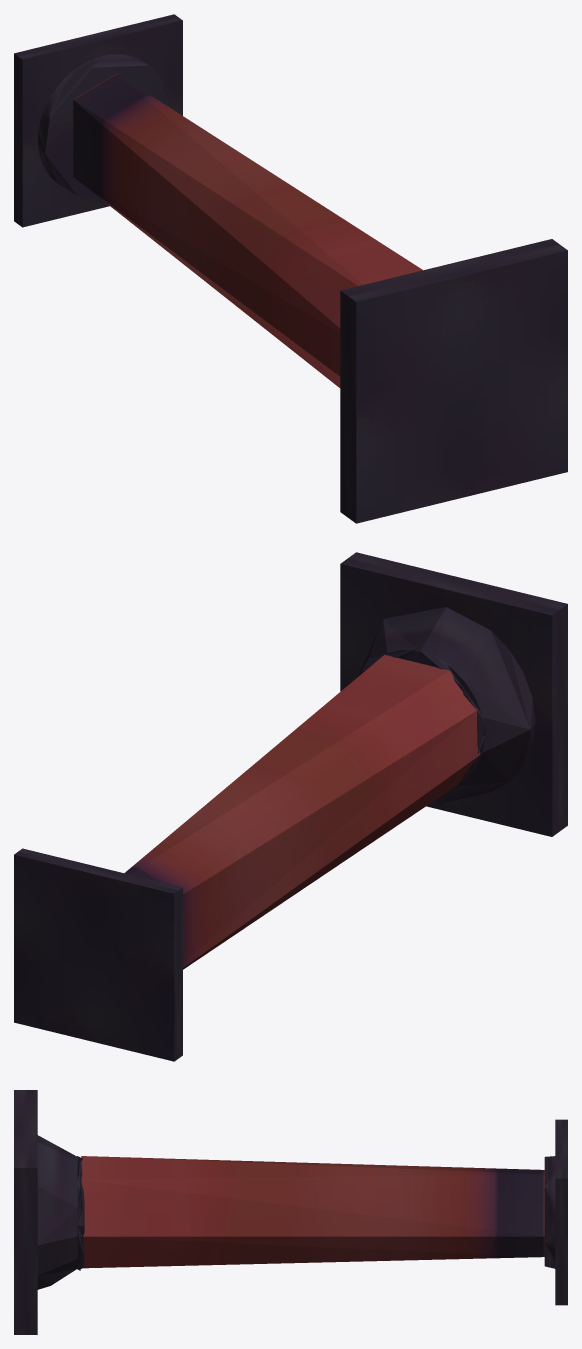
The model's file is minoancolumn164_wtf.obj.
3 views of the same model, one above another, from view 1: azimuth 30°, elevation 25°; view 2: azimuth 150°, elevation 25°; view 3: azimuth 270°, elevation 25° (orthographic). The views are drawn at different scales.
Parts seen in each view (by area): view 1: group3, group2; view 2: group3, group2; view 3: group2, group3.
Boxes of the visible parts, left/top/right/bottom form: group3: left=14, top=14, right=567, bottom=523; group2: left=73, top=73, right=422, bottom=387; group3: left=14, top=552, right=567, bottom=1061; group2: left=124, top=654, right=480, bottom=969; group2: left=81, top=1156, right=544, bottom=1268; group3: left=14, top=1090, right=567, bottom=1334.
Bounding box in the file's own units: 219 × 219 × 660.
